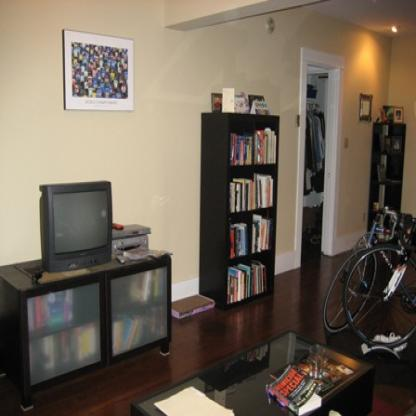bicycle: (321, 200, 415, 336), (341, 213, 415, 350)
tvmonitor: (39, 180, 111, 274)
